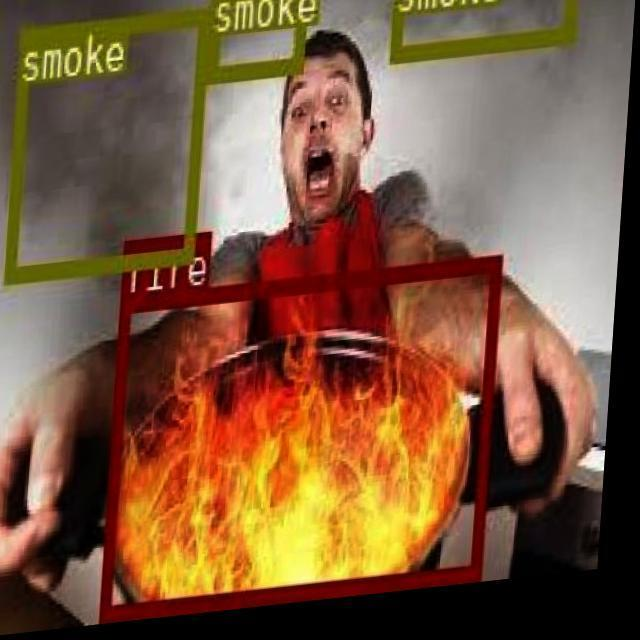Fire: (139, 338, 500, 613)
Smoke: (0, 0, 588, 348)
